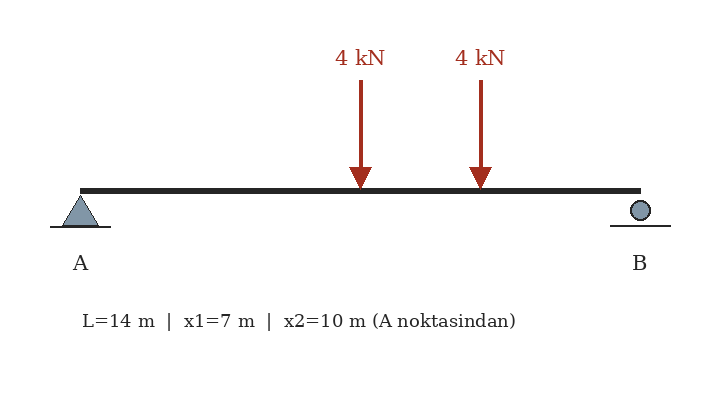pin_support: (61, 190, 99, 226)
point_load: (346, 76, 374, 190), (466, 76, 494, 190)
roller_support: (625, 196, 655, 227)
